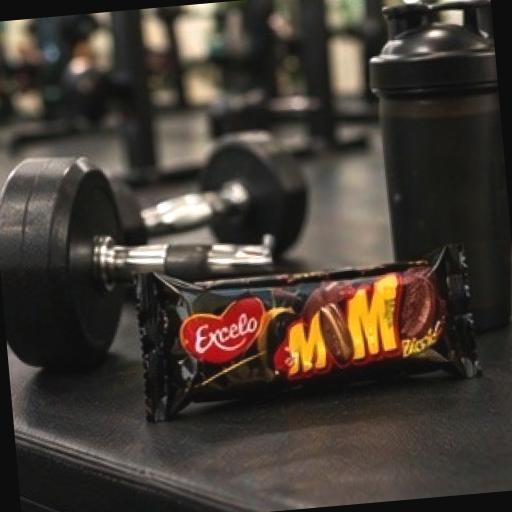MOMO: (66, 184, 512, 481)
